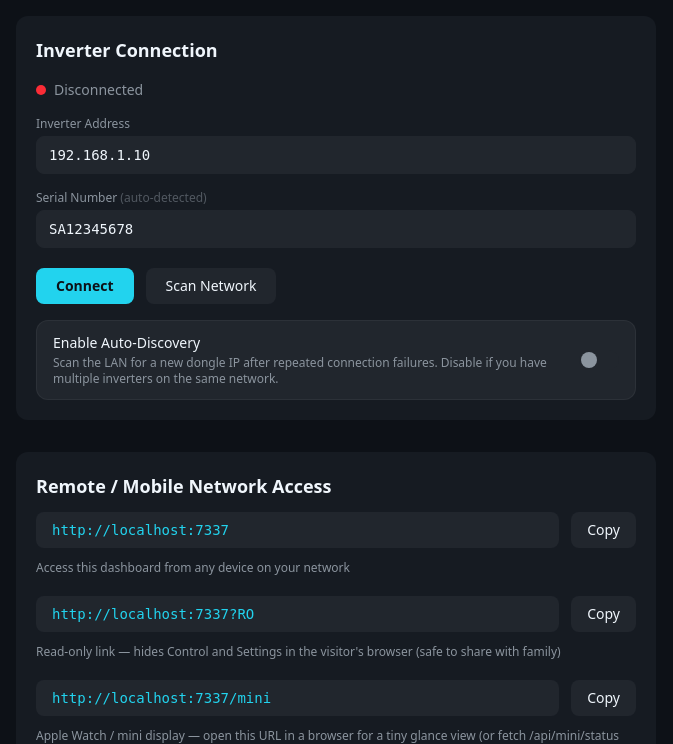
Test: <SettingsPage/> — page shell & hydration › discover › lists discovered inverters
The width and height of the screenshot is (673, 744).
Step 1. Click the button "Scan Network" → [211, 286], box [146,268,276,304]
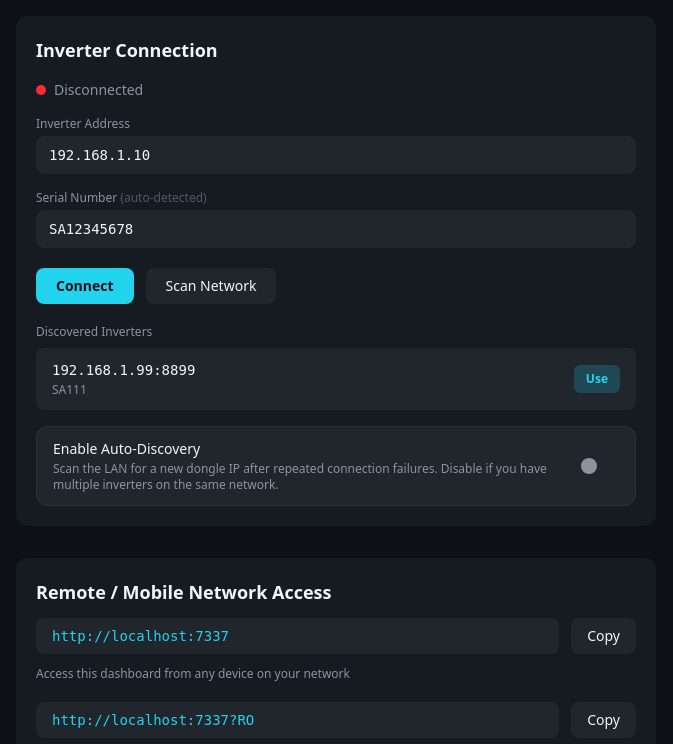
Result: the text "192.168.1.99:8899" is shown at [52,360,195,380]
